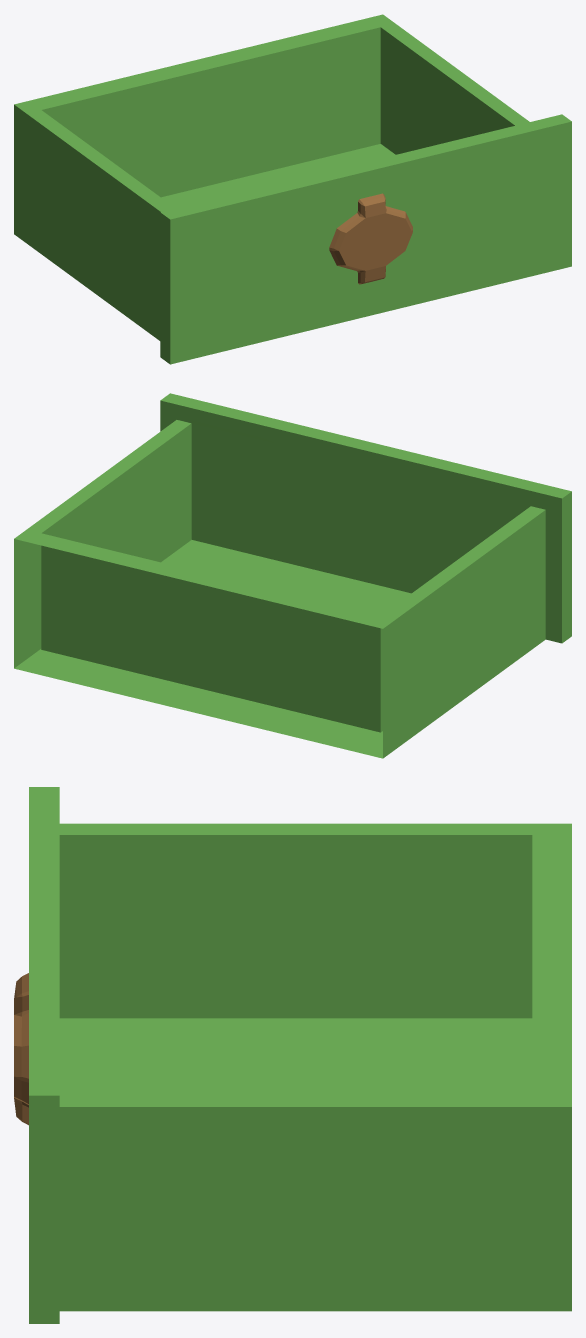
The model's file is SM_Bedside_Drawer_Mesh.fbx.
The picture shows the model from 3 angles, top to bottom: view 1: azimuth 30°, elevation 25°; view 2: azimuth 150°, elevation 25°; view 3: azimuth 270°, elevation 25°; orthographic projection. The views are drawn at different scales.
Visible parts, largest first — view 1: NST_Bedside_Drawer; view 2: NST_Bedside_Drawer; view 3: NST_Bedside_Drawer.
Part boxes in pixels (x1,y1,x2,y2): NST_Bedside_Drawer: [14, 14, 571, 364]; NST_Bedside_Drawer: [14, 393, 571, 758]; NST_Bedside_Drawer: [14, 787, 571, 1323].
Bounding box in the file's own units: 0.5502 × 0.1898 × 0.4205.
